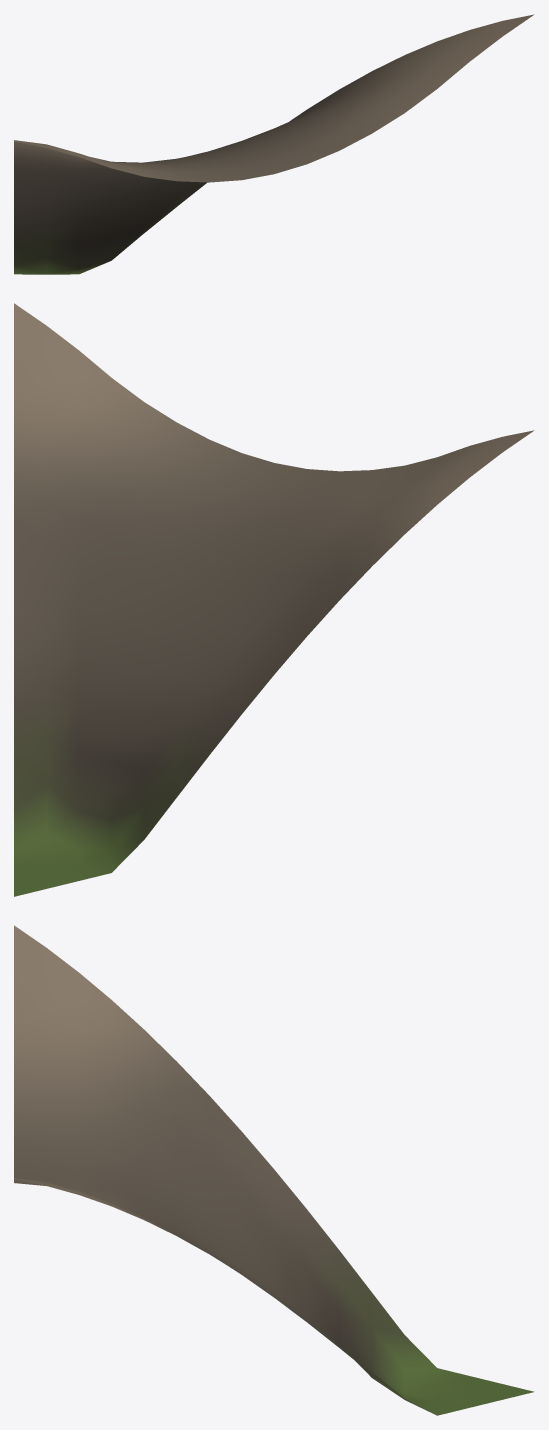
File: MODULE_L2_SIDE.fbx
3 views of the same model, one above another, from view 1: azimuth 30°, elevation 25°; view 2: azimuth 150°, elevation 25°; view 3: azimuth 270°, elevation 25° (orthographic).
Visible parts, largest first — view 1: MODULE_L2_SIDE__export; view 2: MODULE_L2_SIDE__export; view 3: MODULE_L2_SIDE__export.
Boxes of the visible parts, <box> form: MODULE_L2_SIDE__export: <box>14,14,534,274</box>; MODULE_L2_SIDE__export: <box>14,303,534,896</box>; MODULE_L2_SIDE__export: <box>14,925,534,1415</box>.
Bounding box in the file's own units: 100 × 62.28 × 86.6.
